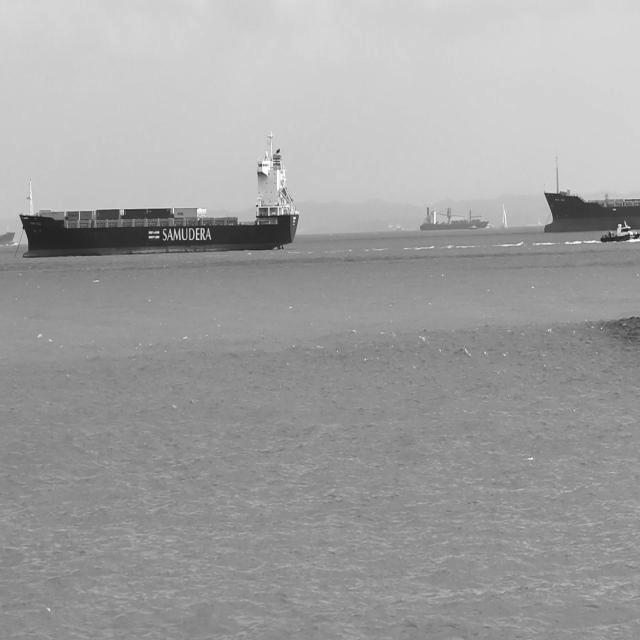ship: (18, 130, 300, 259), (542, 156, 640, 234), (418, 204, 489, 232), (600, 220, 640, 243), (0, 229, 16, 249), (500, 204, 508, 229), (467, 223, 478, 231)
